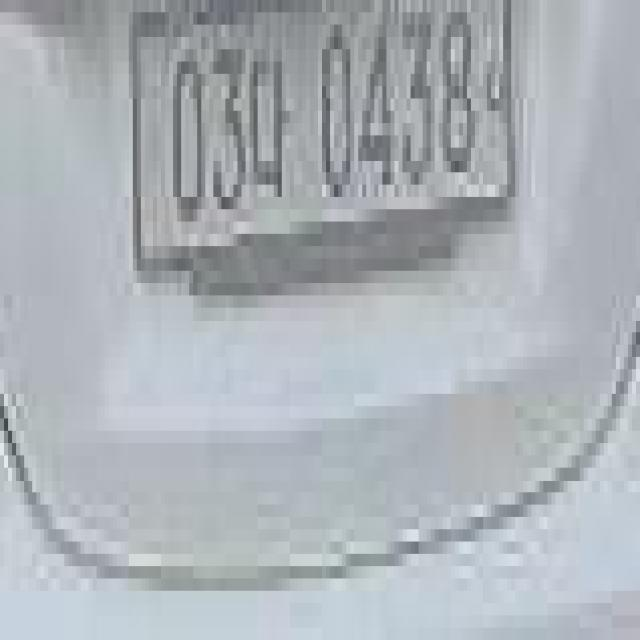illegal_plate: (124, 2, 523, 285)
